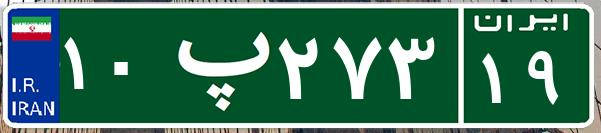0: (110, 28, 158, 105)
1: (57, 26, 110, 107), (475, 38, 525, 113)
2: (273, 28, 330, 110)
3: (385, 28, 445, 110)
7: (330, 28, 385, 110)
9: (525, 38, 570, 115)
پ: (158, 15, 273, 115)
